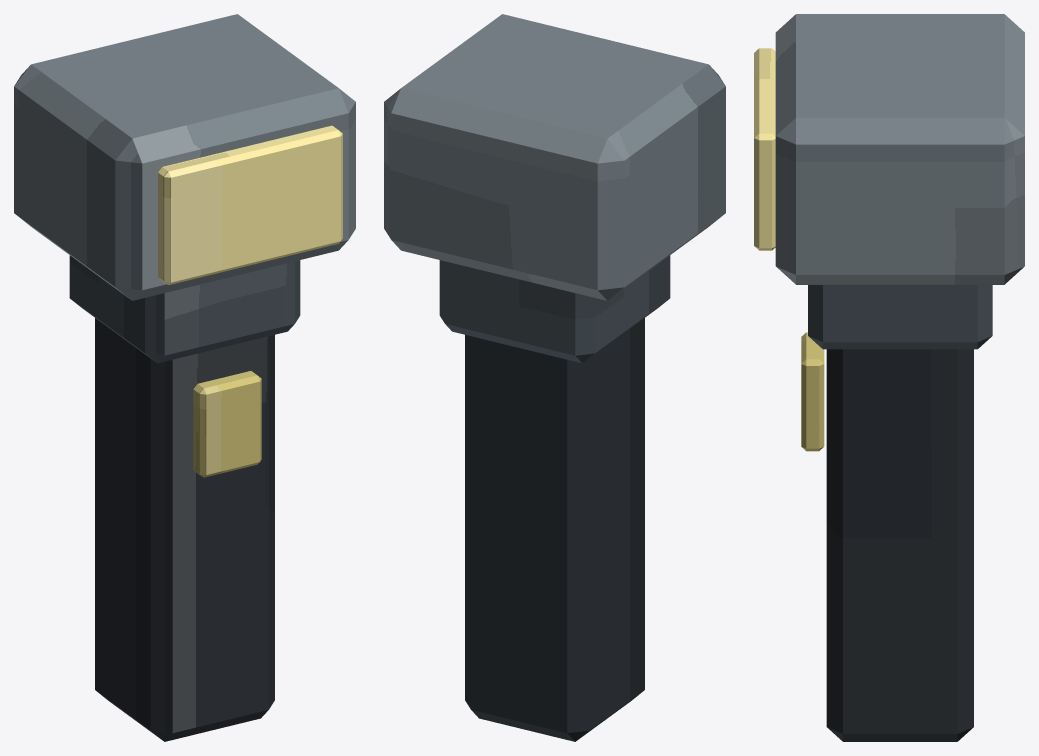
File: flashlight_item.glb
3 renders of one model, left to right at view 1: azimuth 30°, elevation 25°; view 2: azimuth 150°, elevation 25°; view 3: azimuth 270°, elevation 25°, orthographic. The views are drawn at different scales.
Parts seen in each view (by area): view 1: FlashlightGrip, FlashlightHead, FlashlightLens, FlashlightNeck, FlashlightSwitch; view 2: FlashlightHead, FlashlightGrip, FlashlightNeck; view 3: FlashlightHead, FlashlightGrip, FlashlightNeck, FlashlightLens, FlashlightSwitch.
Part boxes in pixels (x1,y1,x2,y2): FlashlightGrip: (95, 318, 274, 741); FlashlightHead: (14, 14, 355, 300); FlashlightLens: (158, 125, 342, 285); FlashlightNeck: (69, 255, 300, 363); FlashlightSwitch: (193, 371, 261, 477); FlashlightHead: (384, 14, 725, 300); FlashlightGrip: (465, 318, 644, 741); FlashlightNeck: (439, 255, 670, 363); FlashlightHead: (775, 14, 1024, 284); FlashlightGrip: (826, 349, 973, 741); FlashlightNeck: (808, 285, 992, 349); FlashlightLens: (754, 48, 775, 250); FlashlightSwitch: (801, 332, 824, 451).
Size of the model in its own units: 0.31 by 0.78 by 0.2935.
Materials: 1 (1 with a texture image).
